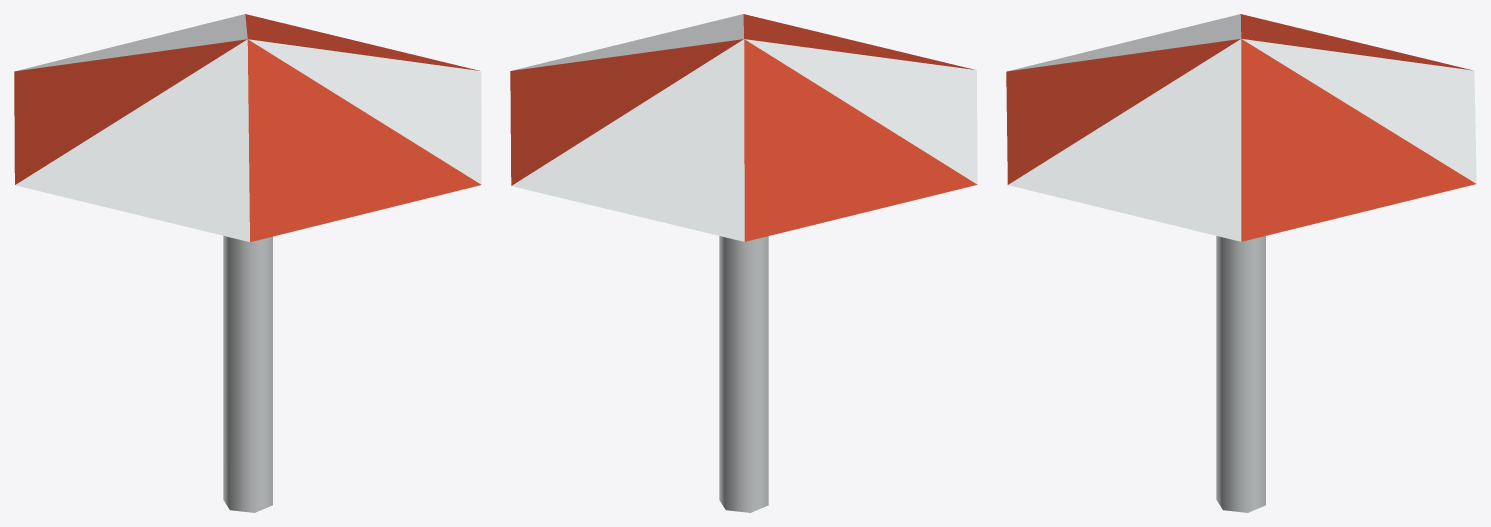
Rendered from umbrella02_s01.FBX.
3 renders of one model, left to right at view 1: azimuth 30°, elevation 25°; view 2: azimuth 150°, elevation 25°; view 3: azimuth 270°, elevation 25°, orthographic.
Visible parts, largest first — view 1: umbrella02_s01; view 2: umbrella02_s01; view 3: umbrella02_s01.
Boxes of the visible parts, left/top/right/bottom form: umbrella02_s01: left=14, top=14, right=481, bottom=512; umbrella02_s01: left=510, top=14, right=977, bottom=512; umbrella02_s01: left=1006, top=14, right=1476, bottom=512.
Size of the model in its own units: 250 by 218 by 237.
Materials: 1 (1 with a texture image).
